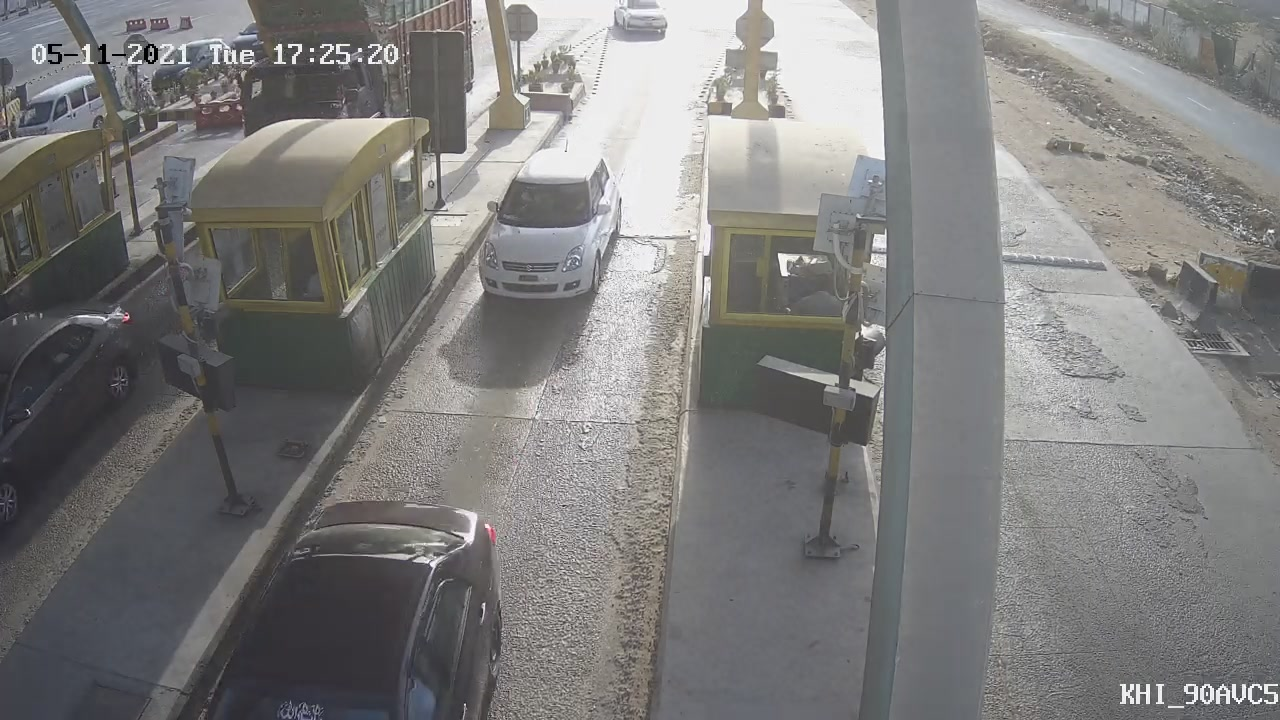F1: (448, 131, 640, 325)
